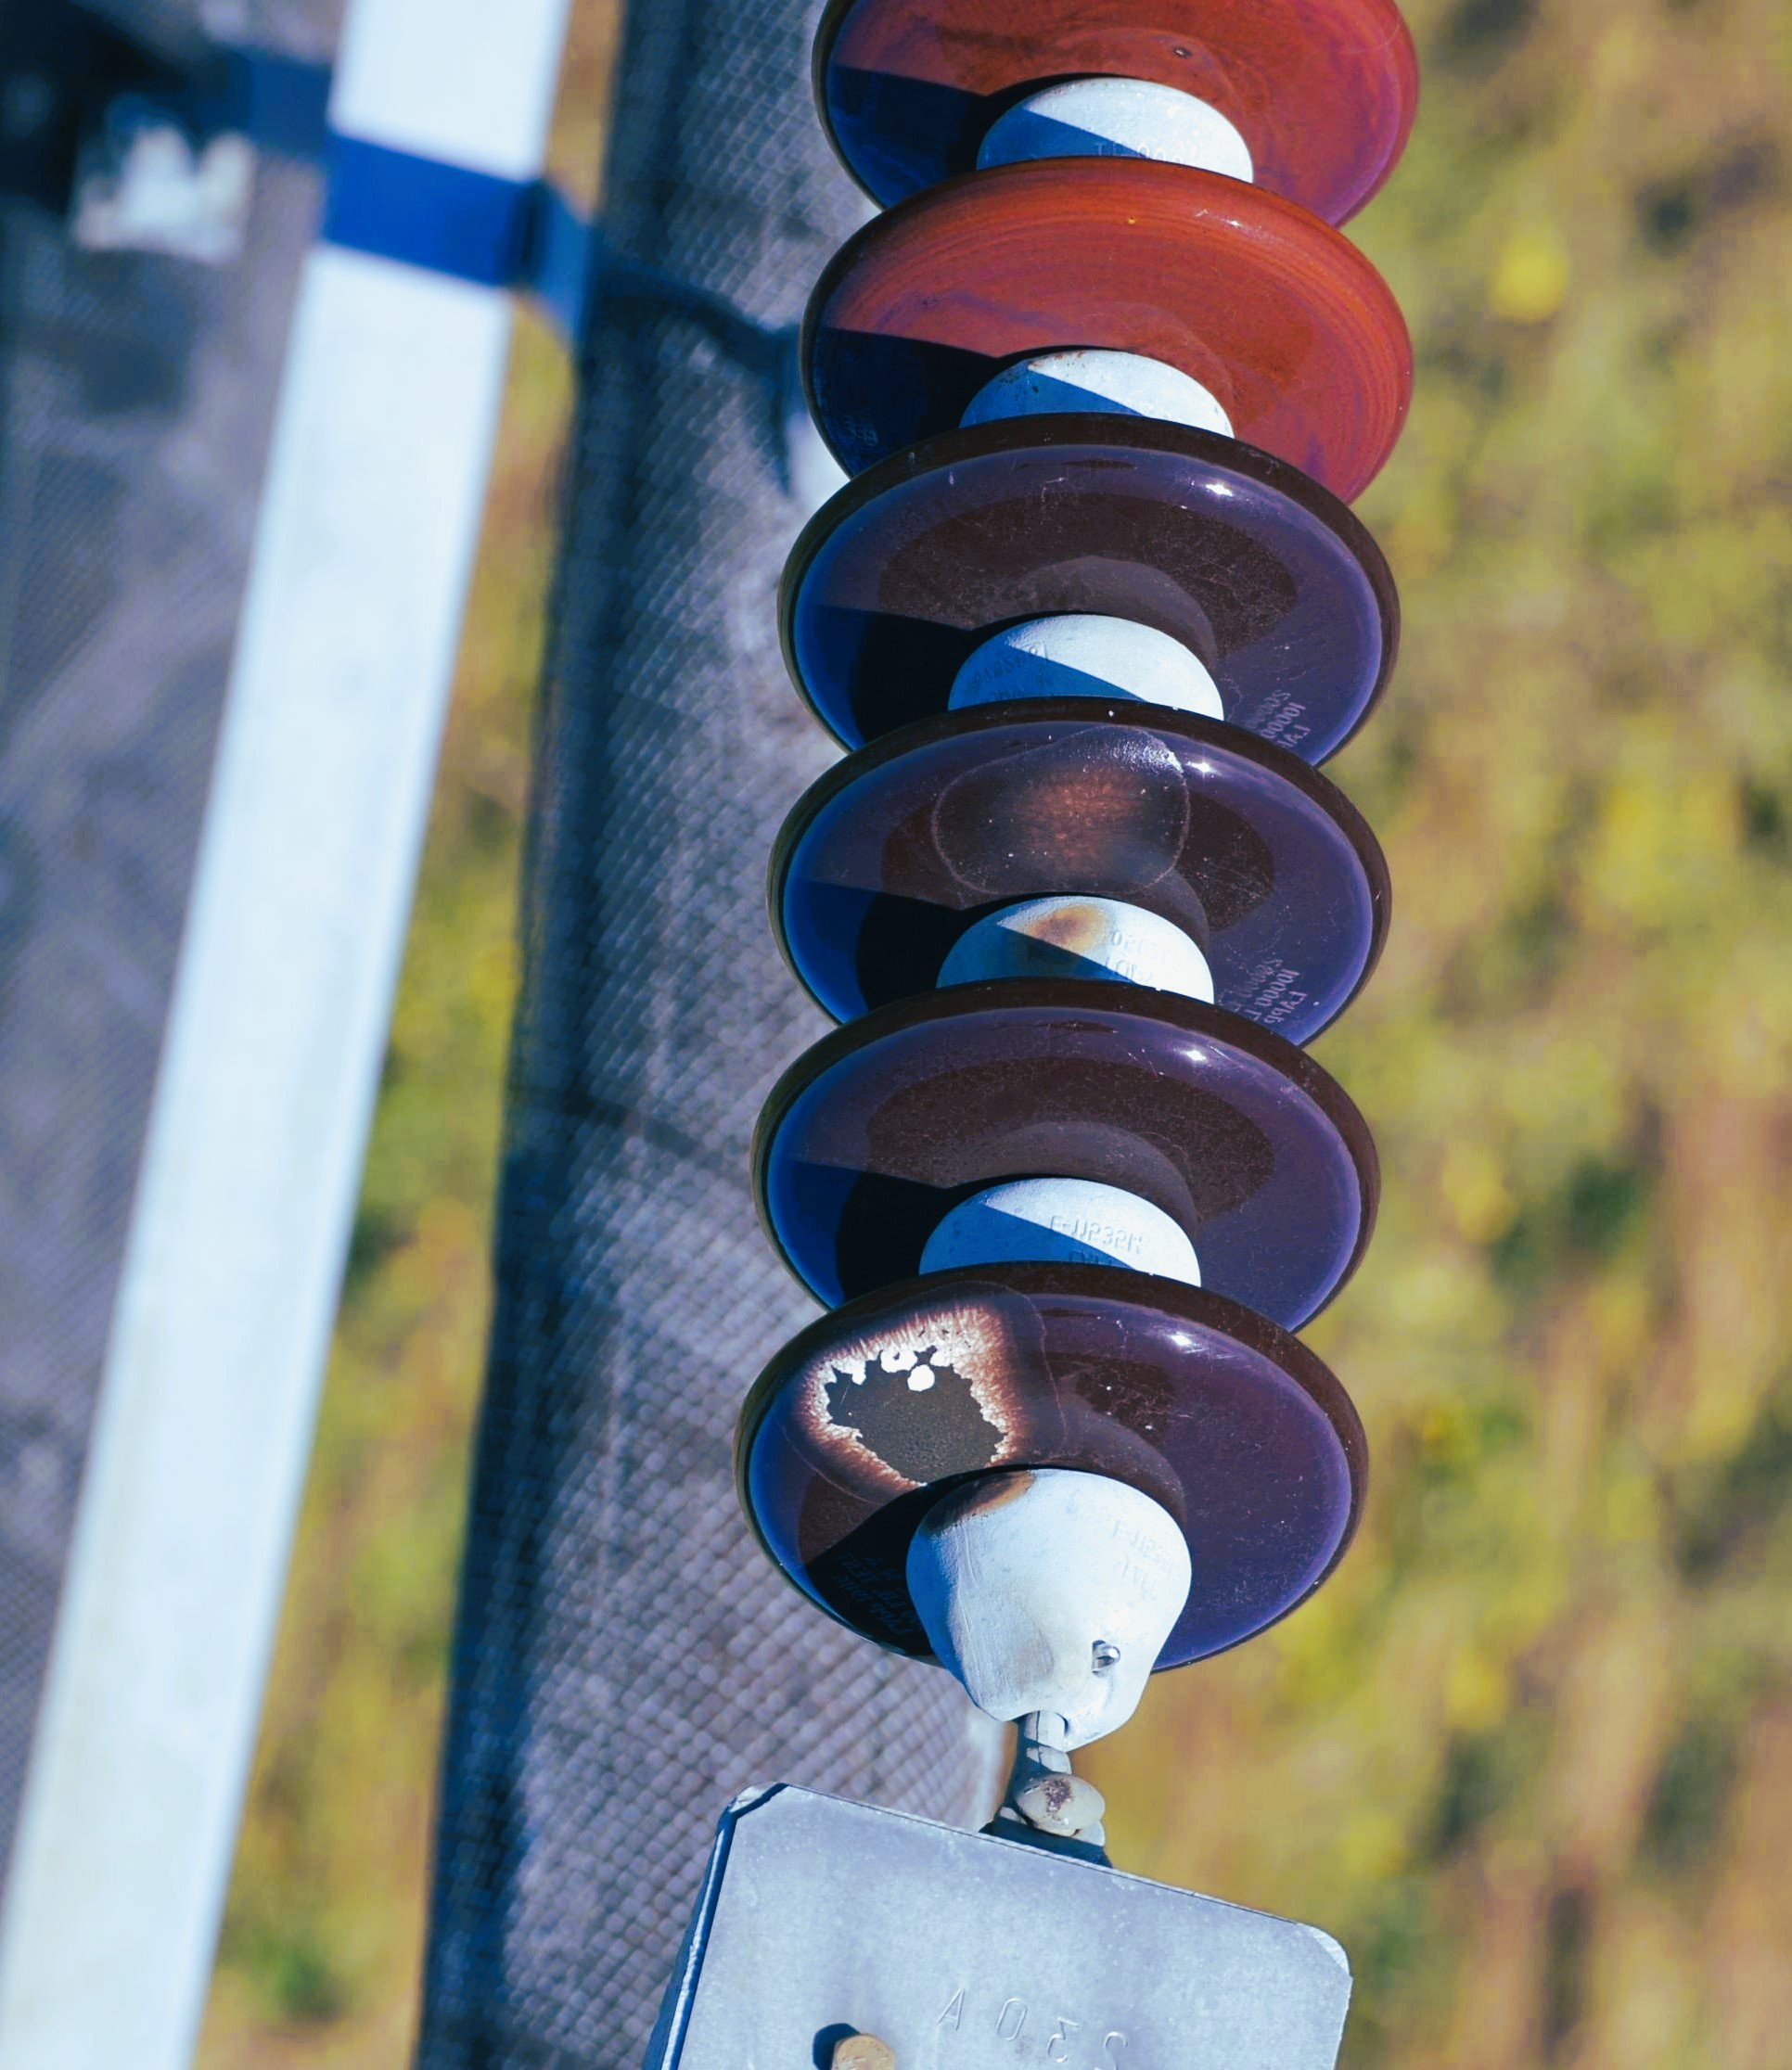Insulator flashover: (727, 1241, 1387, 1697)
